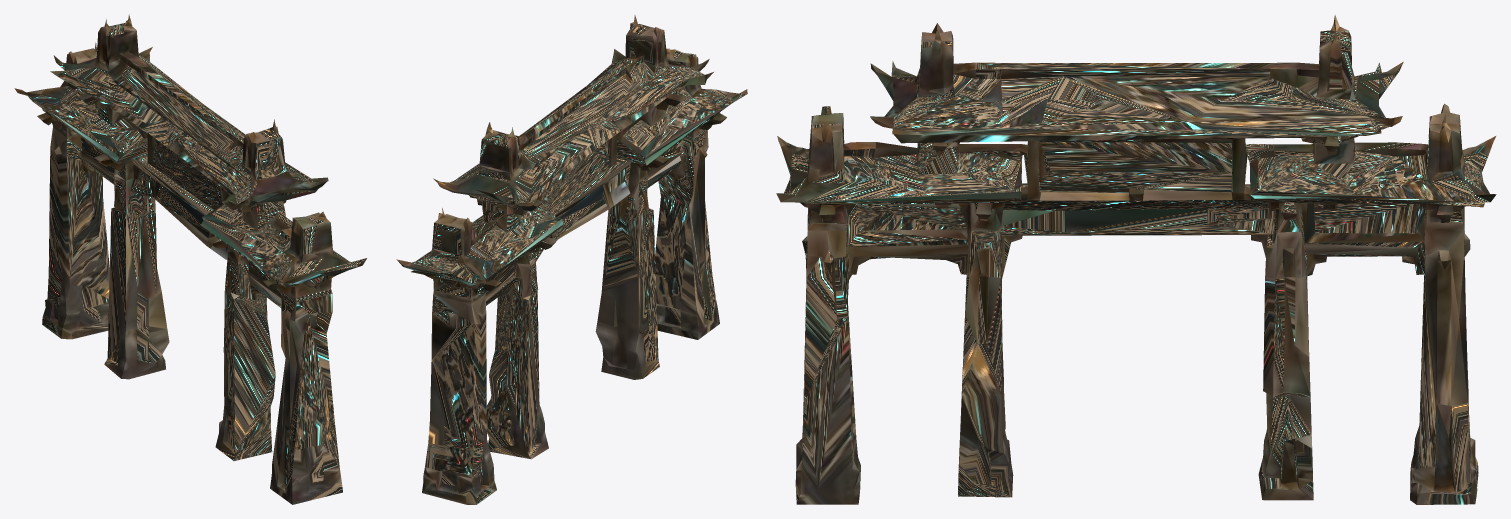
File: s04_far.glb
The picture shows the model from 3 angles, left to right: view 1: azimuth 30°, elevation 25°; view 2: azimuth 150°, elevation 25°; view 3: azimuth 270°, elevation 25°; orthographic projection. The views are drawn at different scales.
Visible parts, largest first — view 1: s04_far; view 2: s04_far; view 3: s04_far.
Boxes of the visible parts, left/top/right/bottom form: s04_far: left=14, top=14, right=366, bottom=504; s04_far: left=396, top=15, right=747, bottom=504; s04_far: left=776, top=14, right=1496, bottom=504.
Size of the model in its own units: 4.47 by 14 by 19.66.
1 material, 1 textured.
